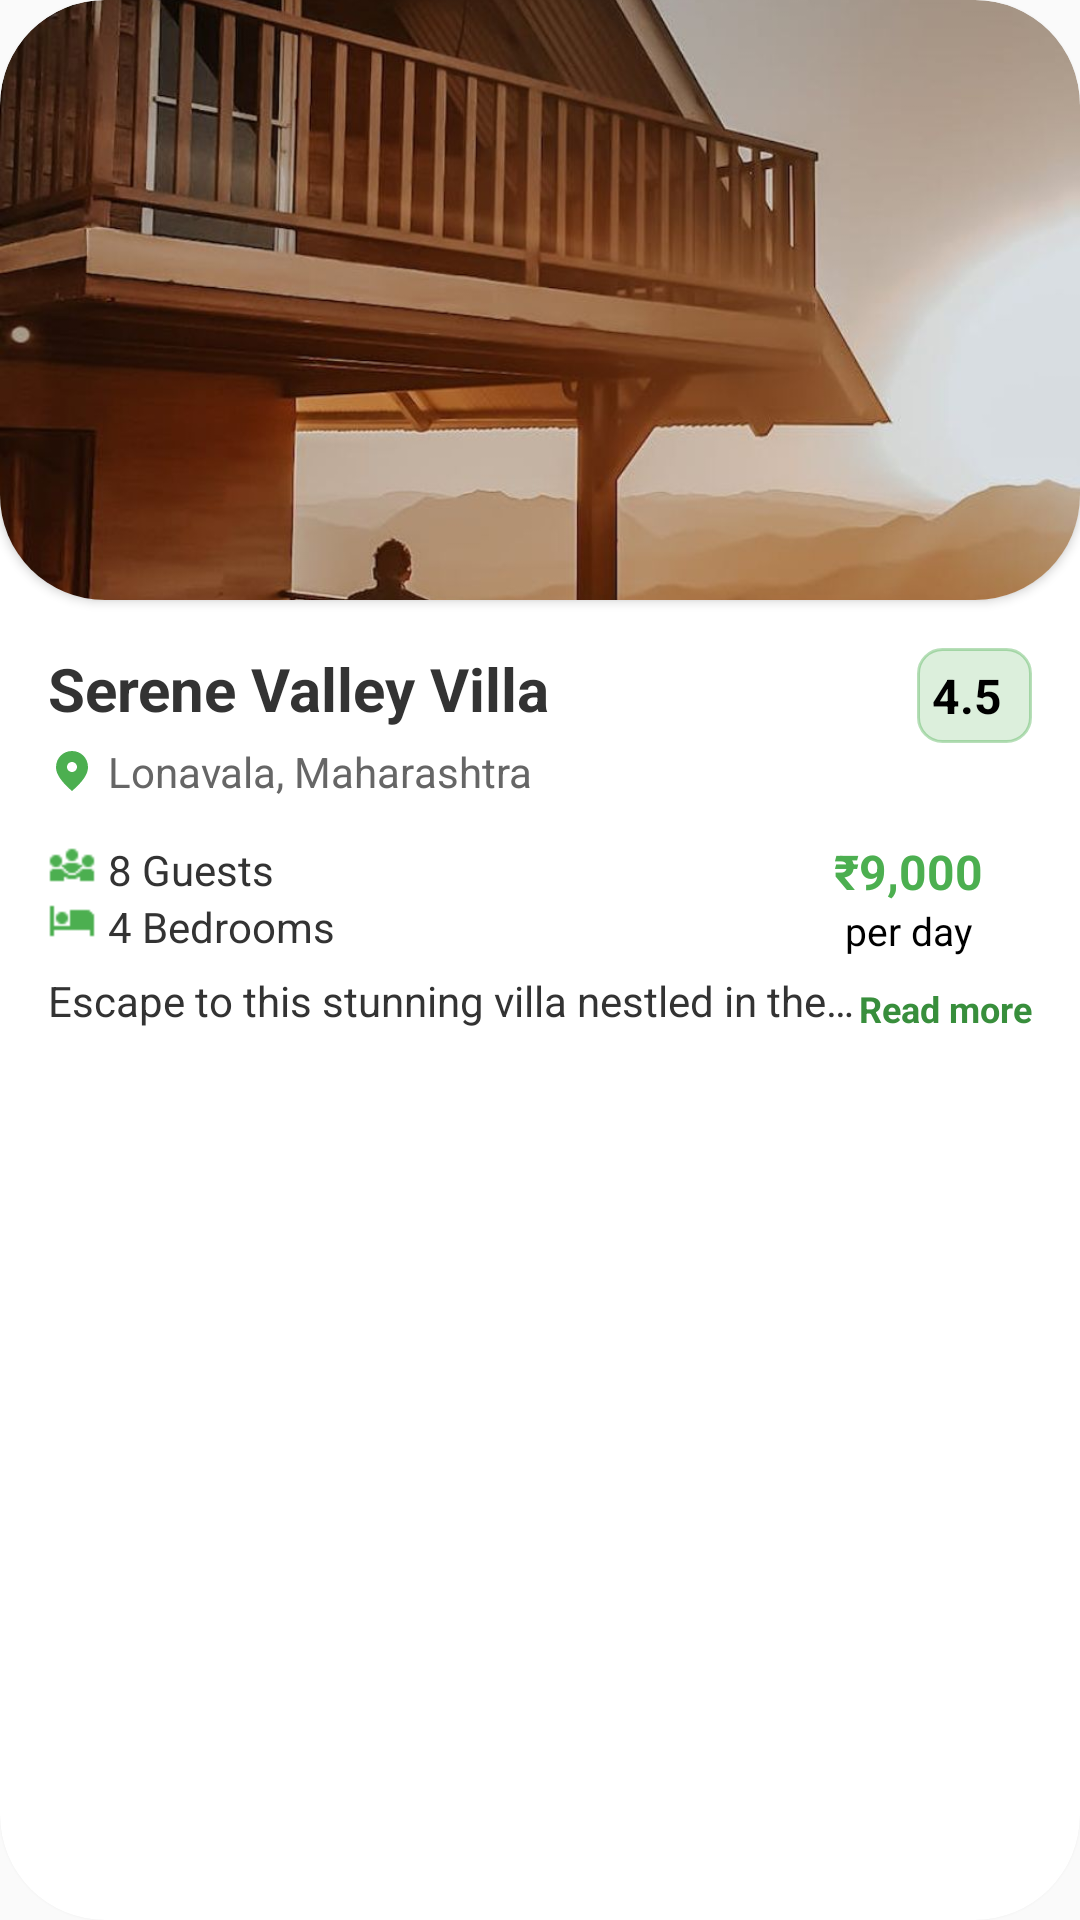

Icons on this 1080×1920 Android screen, each with its box as [x1=x1, y1=y1, x2=x2, y2=y2]:
Location Icon: [x1=56, y1=751, x2=88, y2=791]
